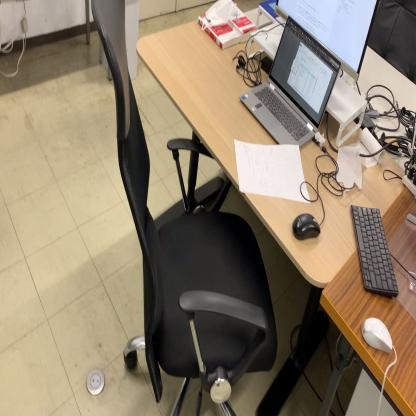chair: (90, 2, 278, 416)
